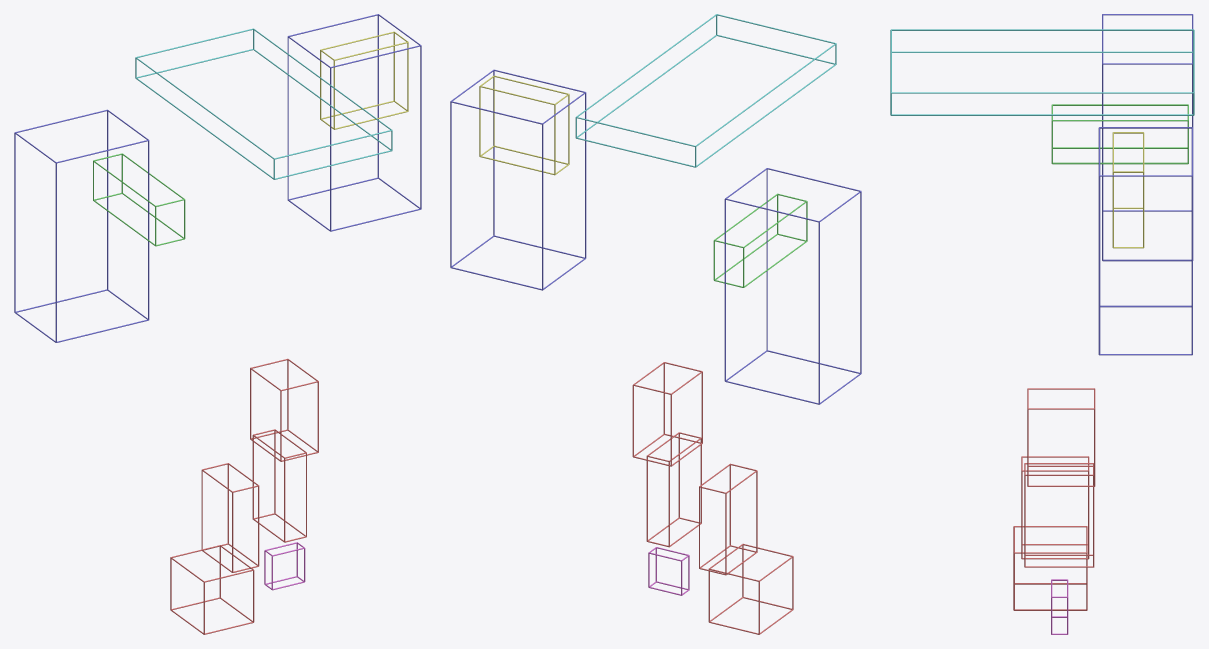
3 renders of one model, left to right at view 1: azimuth 30°, elevation 25°; view 2: azimuth 150°, elevation 25°; view 3: azimuth 270°, elevation 25°, orthographic. The views are drawn at different scales.
Parts seen in each view (by area): view 1: world; view 2: world; view 3: world.
Boxes of the visible parts, box(x1,y1,x2,y2) form: world: box(14, 14, 421, 634); world: box(450, 14, 861, 634); world: box(890, 14, 1194, 634).
Size of the model in its own units: 3.24 by 4.36 by 2.14.
